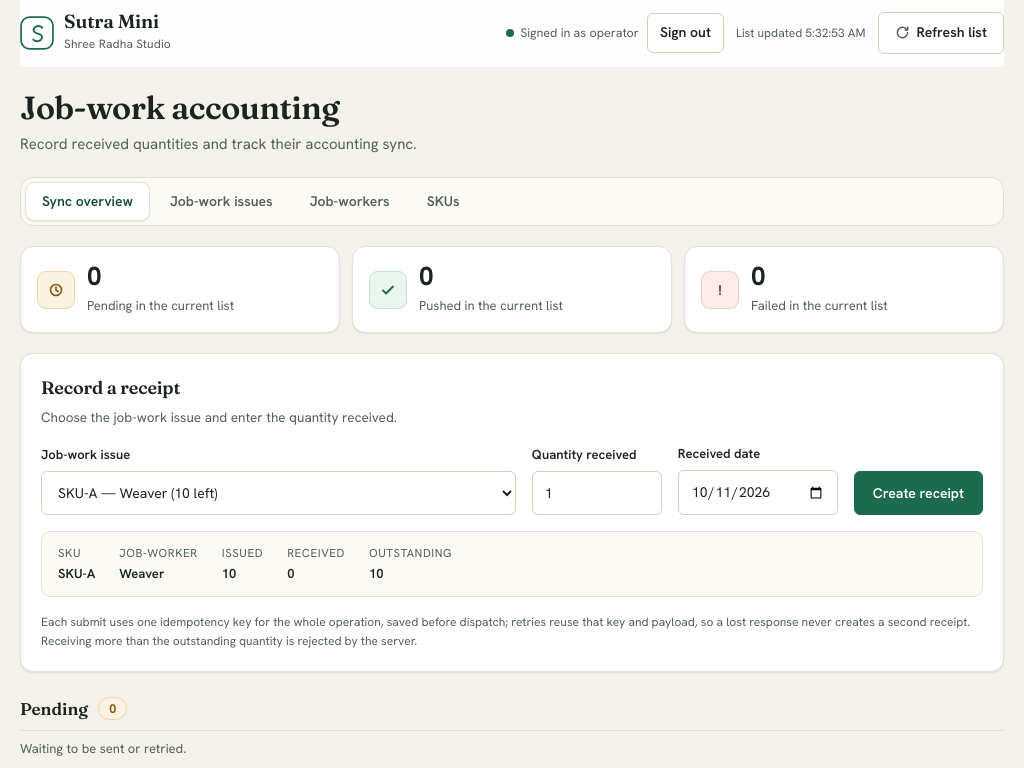
Test: SyncPage authentication gating › clears data and stops polling on sign-out
Expected: the button "Create receipt" is shown, [854,471,983,515]
Click the button "Sign out" at [685, 33], box [647,13,724,53]
Wait 12000 ms
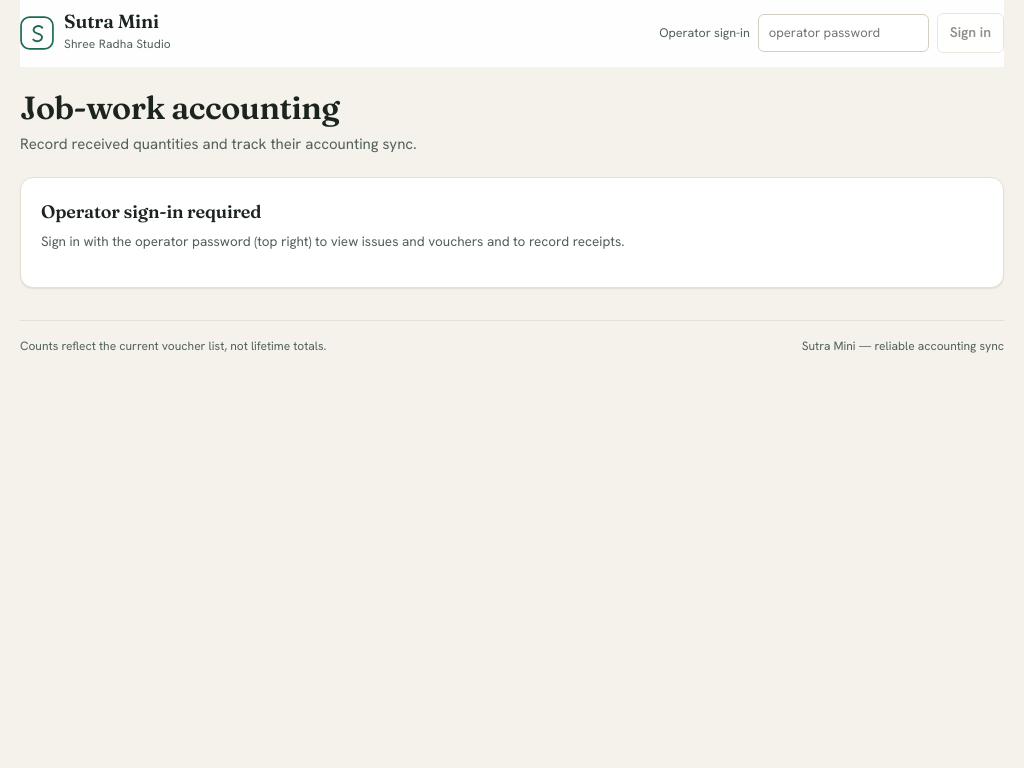
Expected: the button "Create receipt" is gone
Expected: the heading "Operator sign-in required" is shown, [41,200,261,223]
